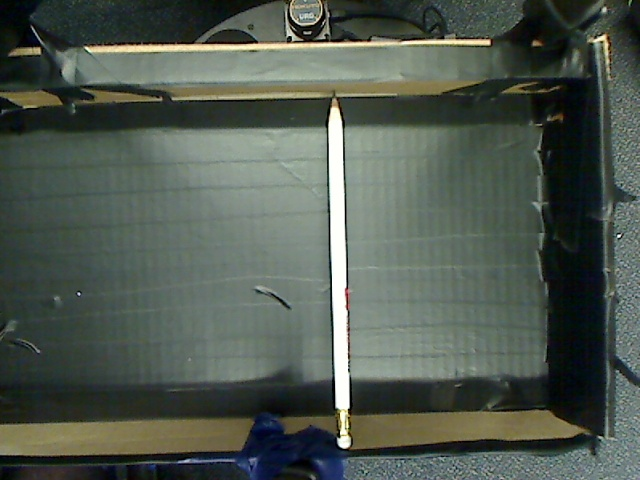pencil: (330, 91, 346, 460)
